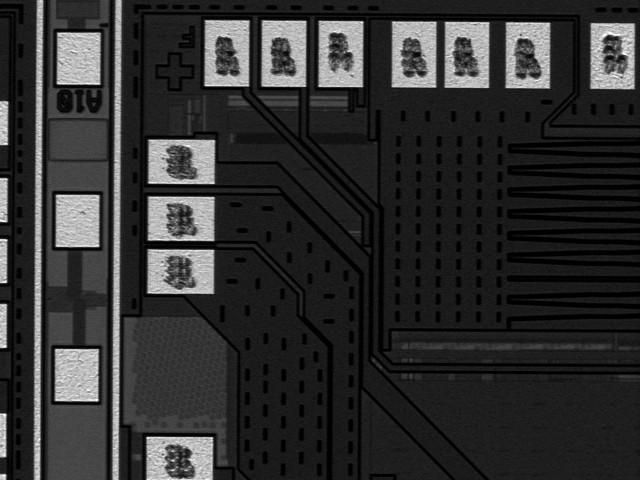over: (139, 191, 221, 244), (585, 18, 640, 94), (141, 136, 219, 189), (439, 18, 493, 93), (142, 246, 219, 298), (139, 432, 222, 480), (258, 16, 310, 92), (199, 17, 253, 90), (386, 18, 440, 91), (314, 16, 366, 90), (502, 18, 554, 92)
